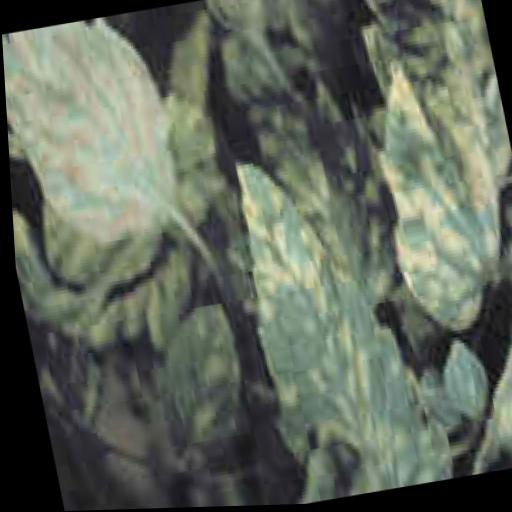Leaf Mold: (216, 140, 445, 507), (1, 9, 190, 263), (364, 73, 512, 334)
